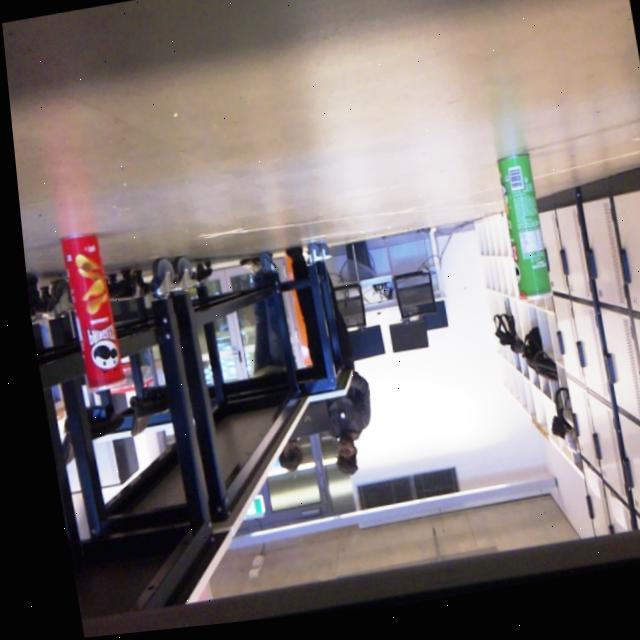greenpringles: (473, 148, 555, 320)
redpringles: (51, 225, 119, 399)
